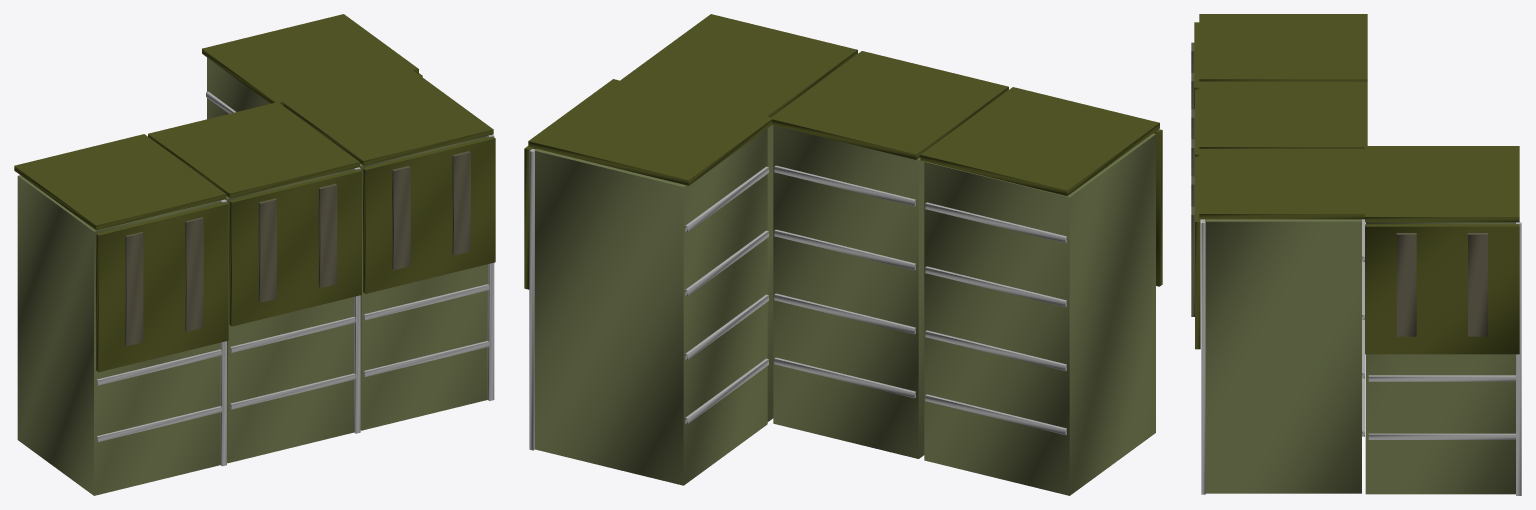
The model's file is SM_HescoRemateEspejo_v4_Red_e0_Sano_LOD0.fbx.
3 views of the same model, side by side, from view 1: azimuth 30°, elevation 25°; view 2: azimuth 150°, elevation 25°; view 3: azimuth 270°, elevation 25° (orthographic). The views are drawn at different scales.
Parts seen in each view (by area): view 1: SM_hesco_piezas_v36_LOD0; view 2: SM_hesco_piezas_v36_LOD0; view 3: SM_hesco_piezas_v36_LOD0.
Part boxes in pixels (box(x1,y1,x2,y2)): SM_hesco_piezas_v36_LOD0: box(14, 14, 495, 495); SM_hesco_piezas_v36_LOD0: box(524, 14, 1162, 495); SM_hesco_piezas_v36_LOD0: box(1191, 14, 1521, 495).
Bounding box in the file's own units: 3.41 × 2.16 × 2.31.
